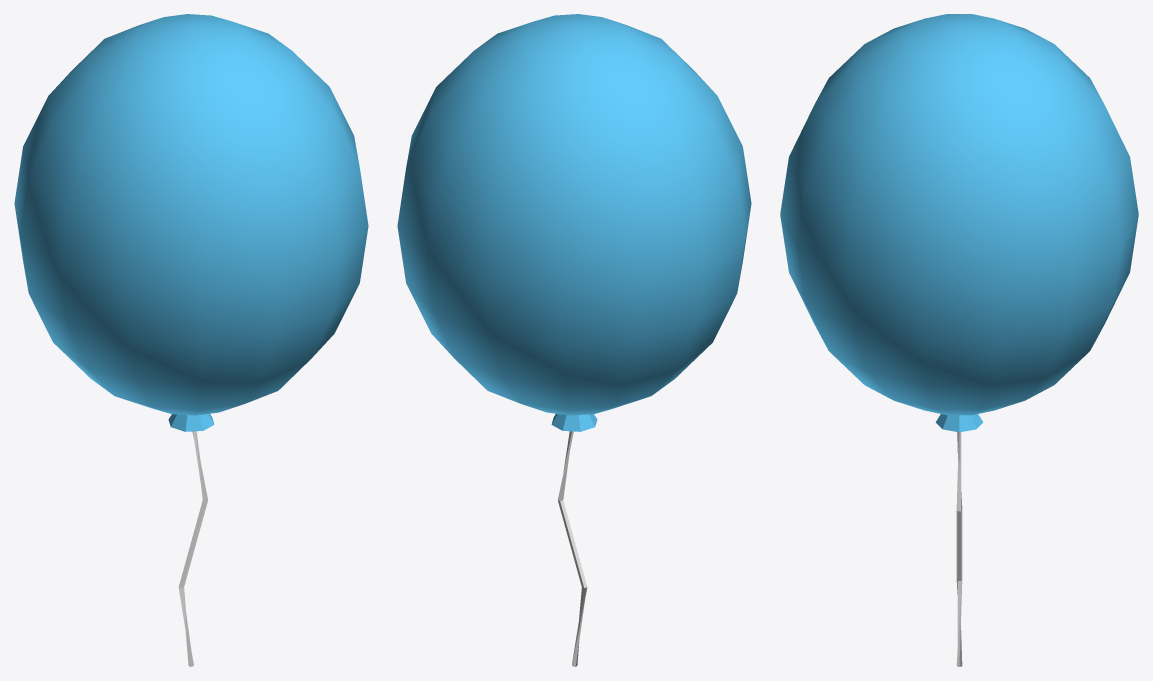
Rendered from balloon.glb.
3 views of the same model, side by side, from view 1: azimuth 30°, elevation 25°; view 2: azimuth 150°, elevation 25°; view 3: azimuth 270°, elevation 25° (orthographic).
Visible parts, largest first — view 1: balloon; view 2: balloon; view 3: balloon.
Boxes of the visible parts, bbox=[...] form: balloon: bbox=[14, 14, 368, 666]; balloon: bbox=[397, 14, 751, 666]; balloon: bbox=[780, 14, 1138, 666].
Bounding box in the file's own units: 1.75 × 3.54 × 1.8.
